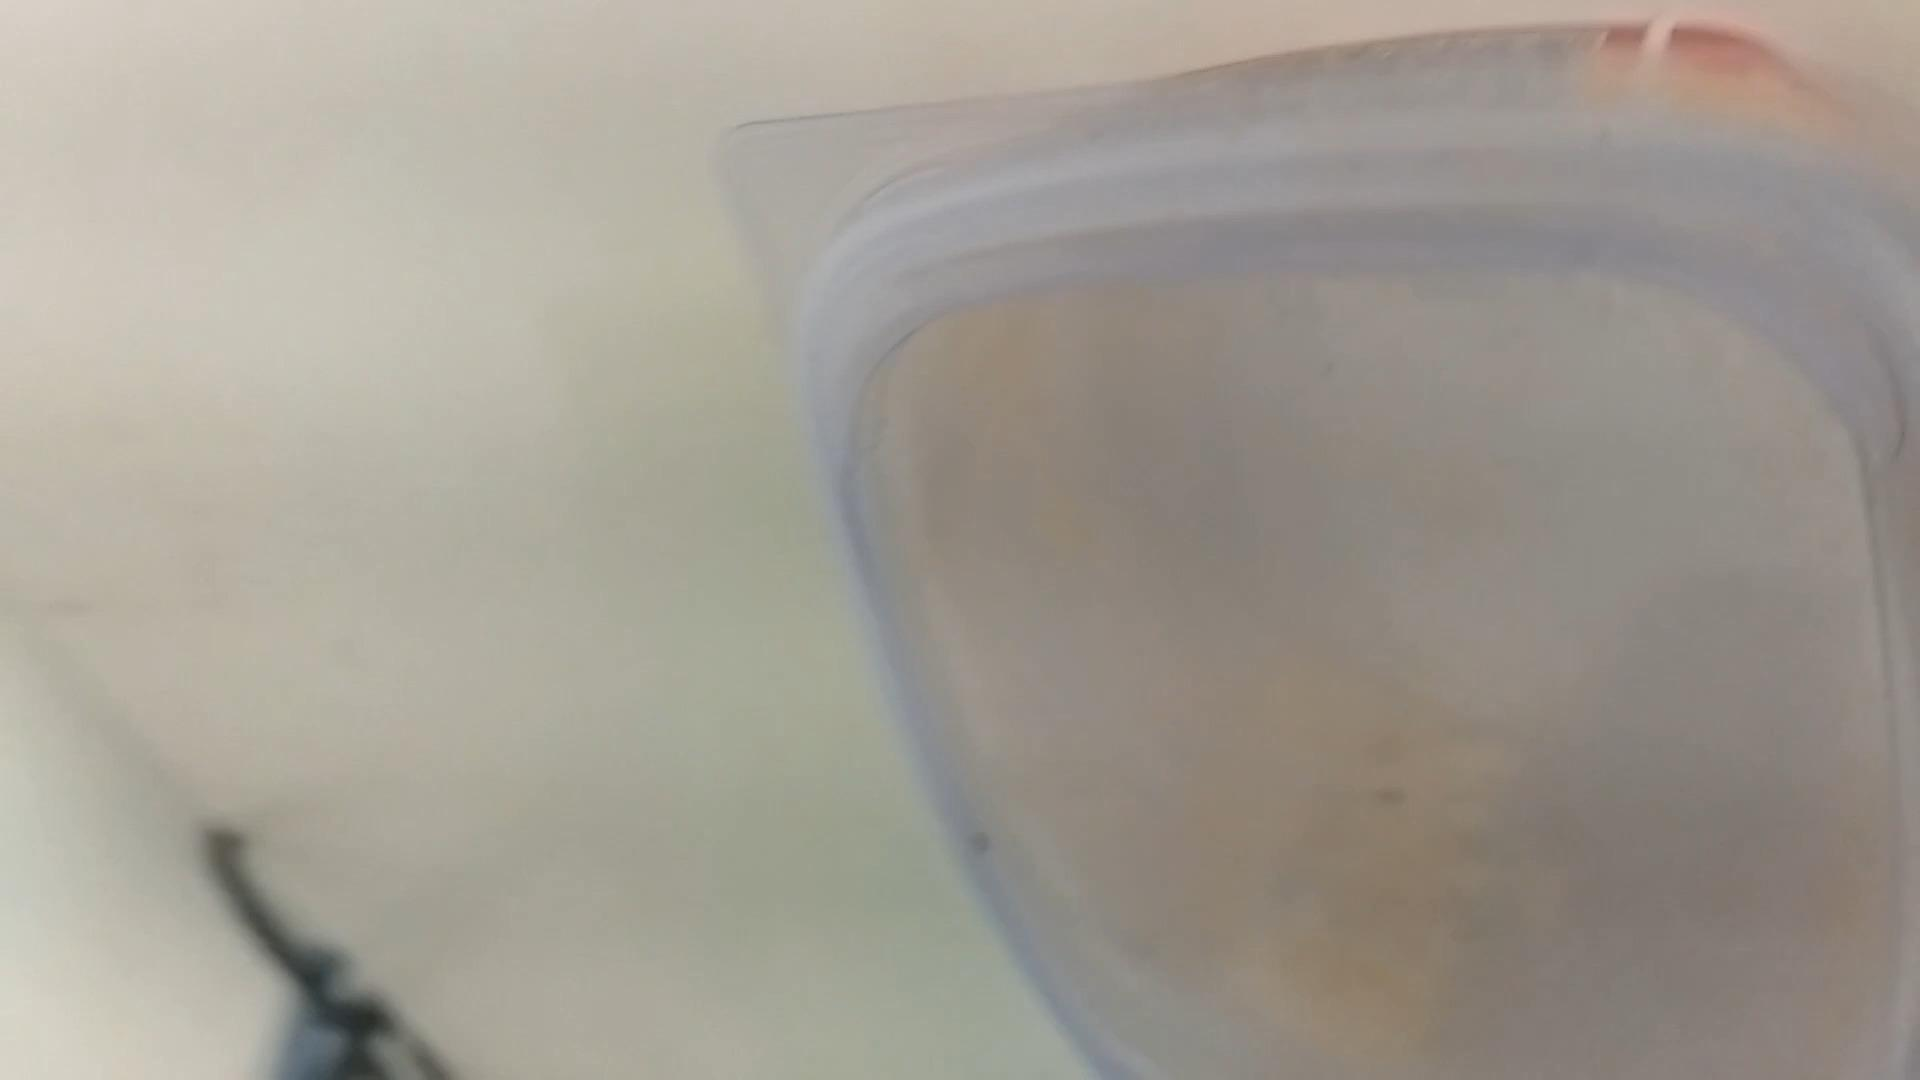butter: (709, 22, 1920, 1080)
